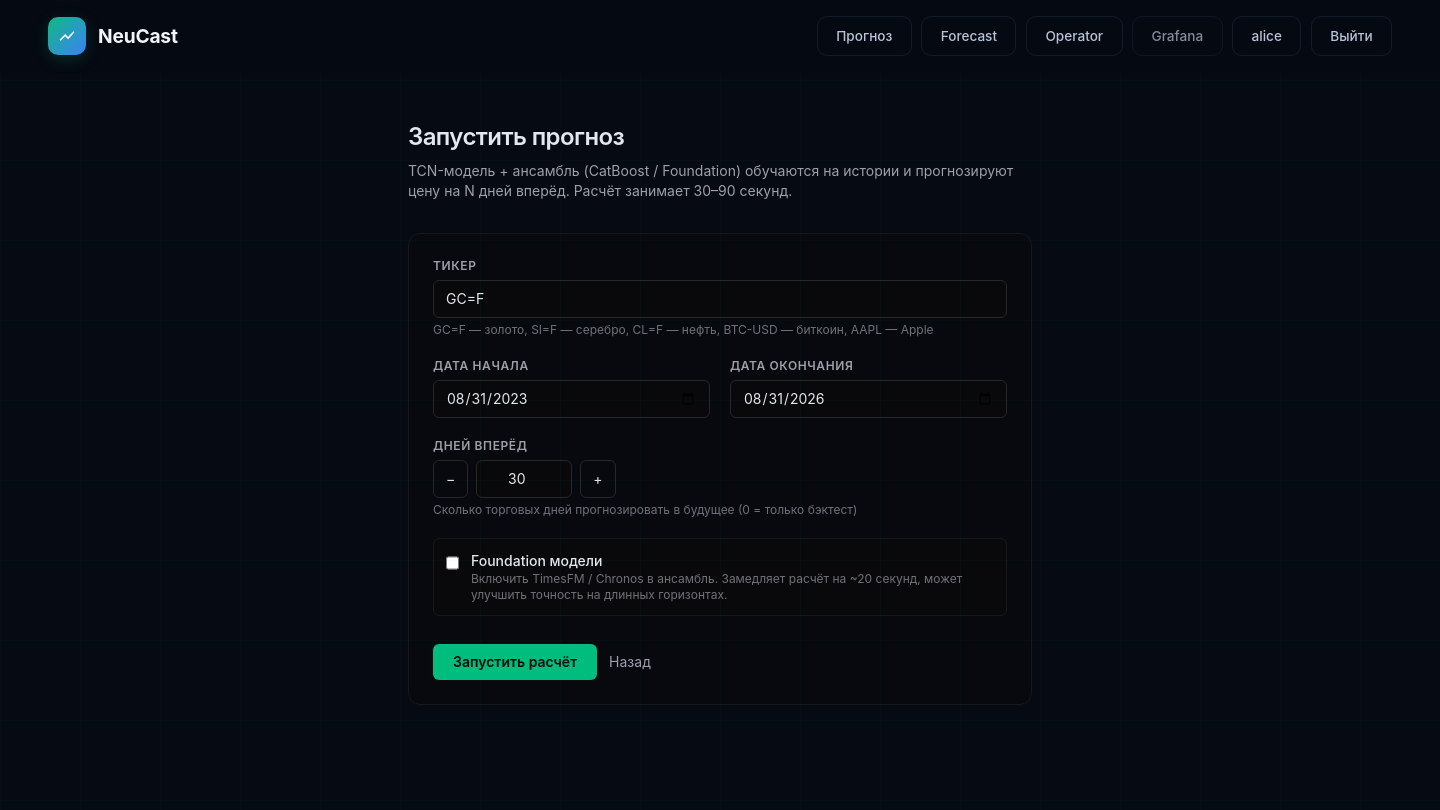
Scenario: /v2/predict — form › surfaces a 401 from /api/predict as a friendly session-expired message
Click the button "Запустить расчёт" at (515, 662), box [433, 644, 597, 680]
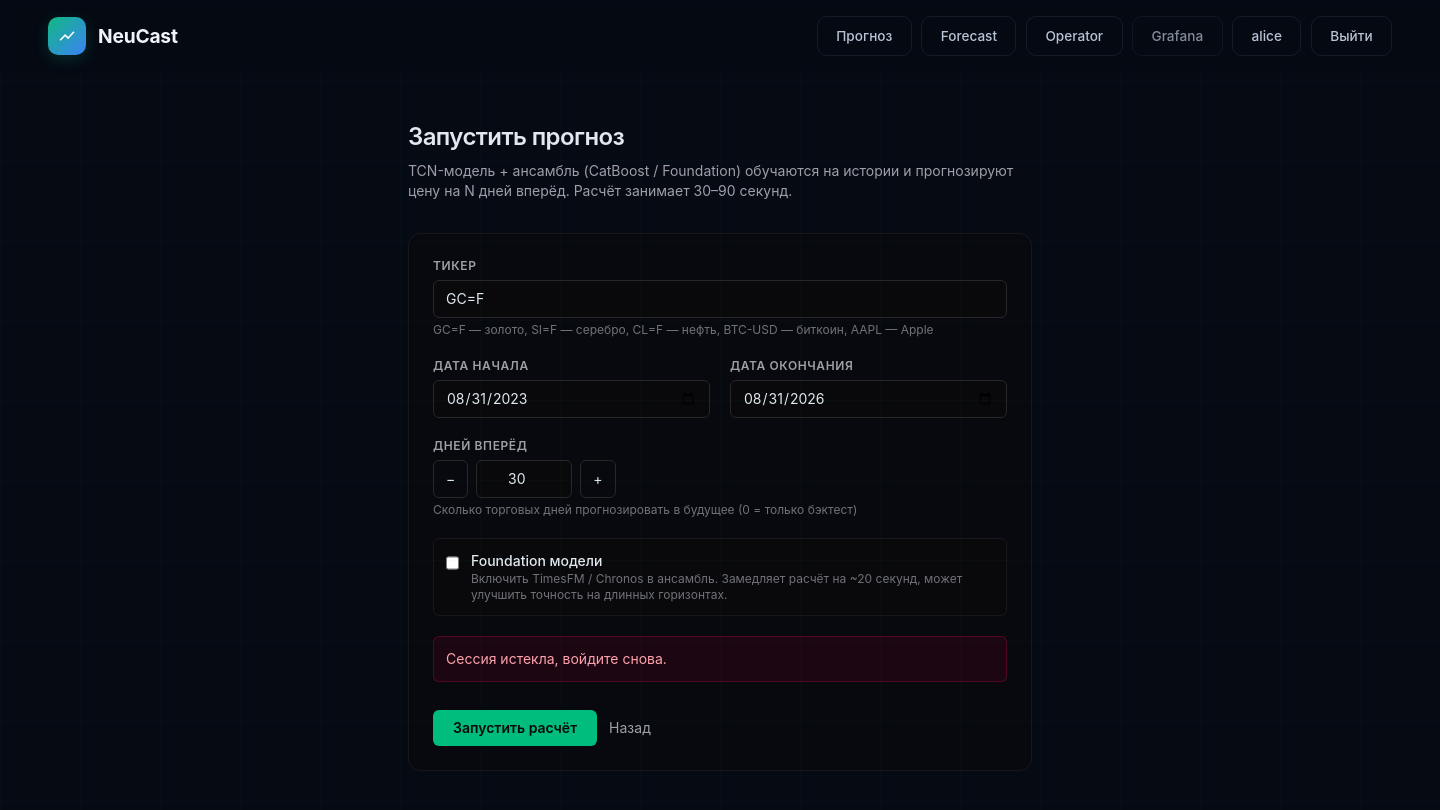
Check: the text "Сессия истекла, войдите снова." is shown, box [433, 636, 1007, 682]
